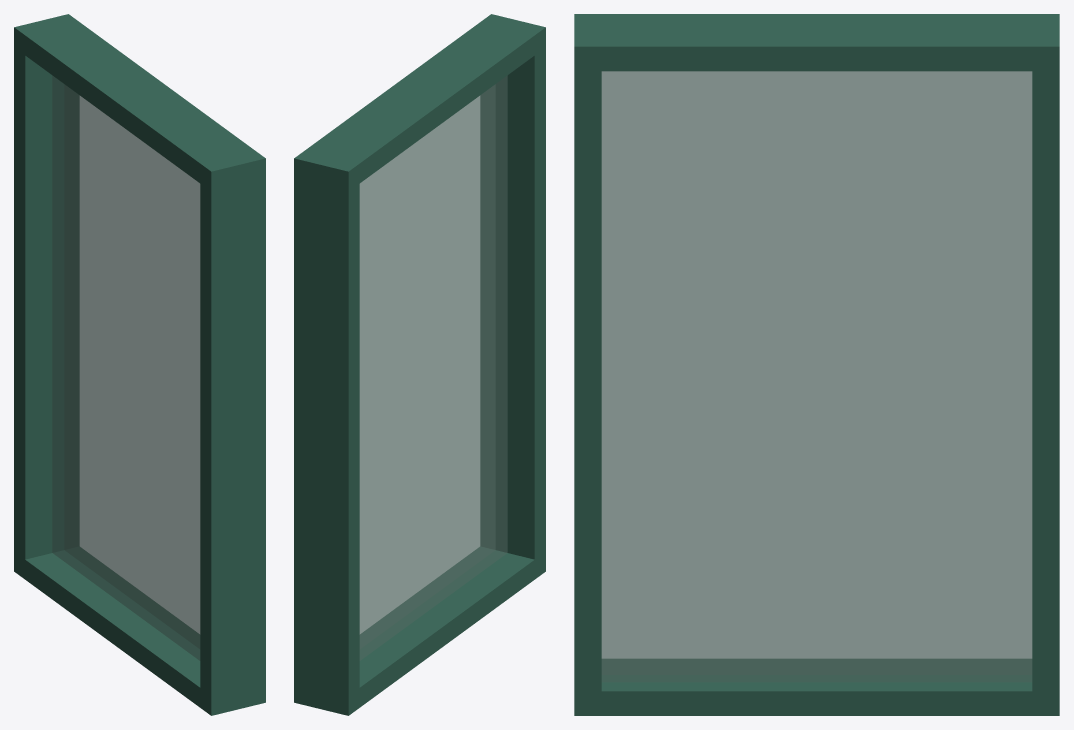
Rendered from window.fbx.
3 renders of one model, left to right at view 1: azimuth 30°, elevation 25°; view 2: azimuth 150°, elevation 25°; view 3: azimuth 270°, elevation 25°, orthographic. The views are drawn at different scales.
Visible parts, largest first — view 1: windowFrame_geo, glass_geo; view 2: windowFrame_geo, glass_geo; view 3: glass_geo, windowFrame_geo.
Boxes of the visible parts, bbox=[...] form: windowFrame_geo: bbox=[14, 14, 265, 715]; glass_geo: bbox=[52, 75, 200, 660]; windowFrame_geo: bbox=[294, 14, 545, 715]; glass_geo: bbox=[359, 75, 507, 660]; glass_geo: bbox=[601, 71, 1032, 682]; windowFrame_geo: bbox=[574, 14, 1059, 715].
Bounding box in the file's own units: 32.01 × 306 × 201.
